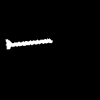half_double_crochet: (6, 39, 51, 48)
